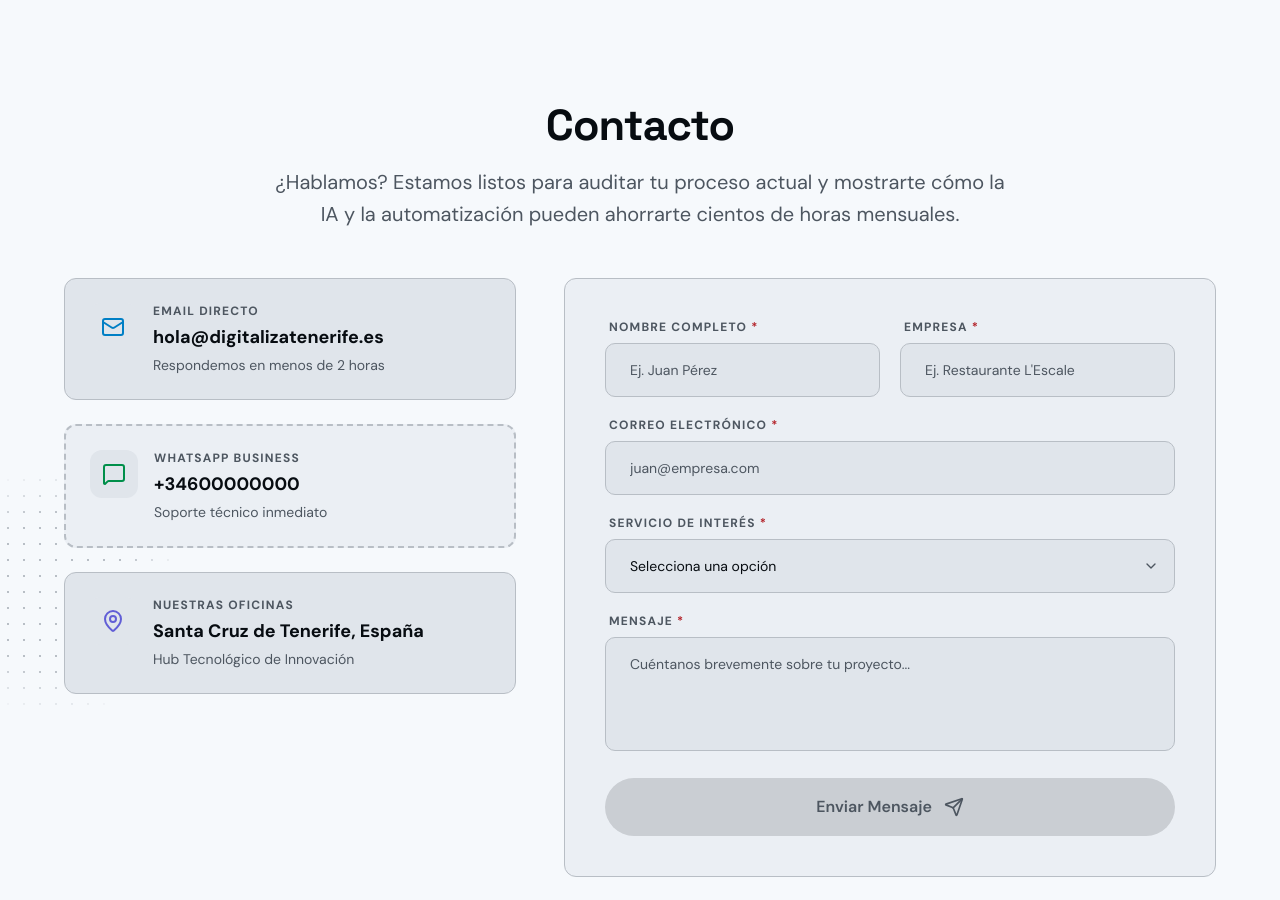
Test case: Contact › submit button becomes enabled once required fields are filled and settings finish loading, className stays unchanged
The width and height of the screenshot is (1280, 900).
Expected: the button "Enviar Mensaje" is disabled, [605, 778, 1175, 836]
Type "Ana García" into the field labelled "Nombre Completo *" at point(742, 370), box [605, 343, 880, 397]
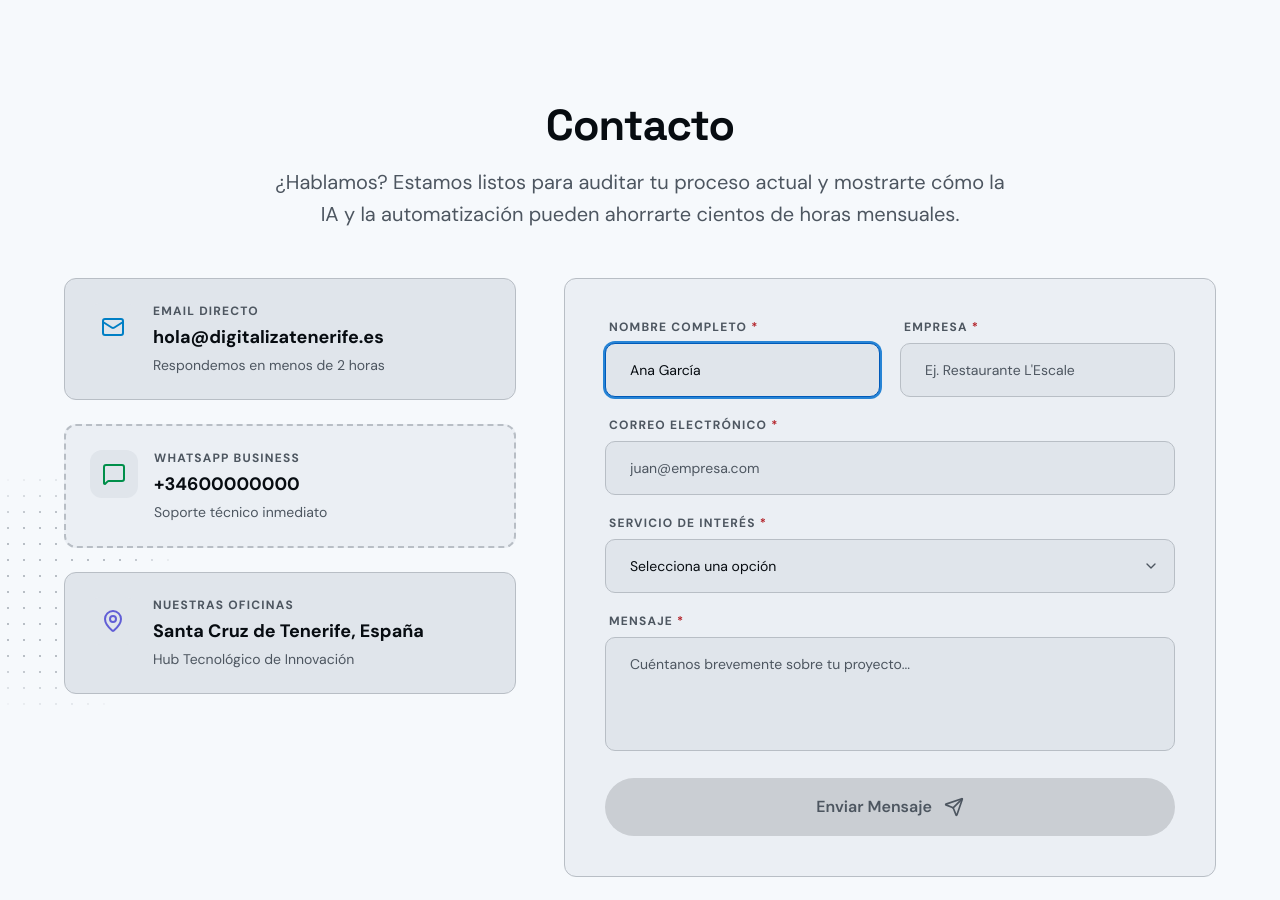
Type "Acme SL" into the field labelled "Empresa *" at point(1038, 370), box [900, 343, 1175, 397]
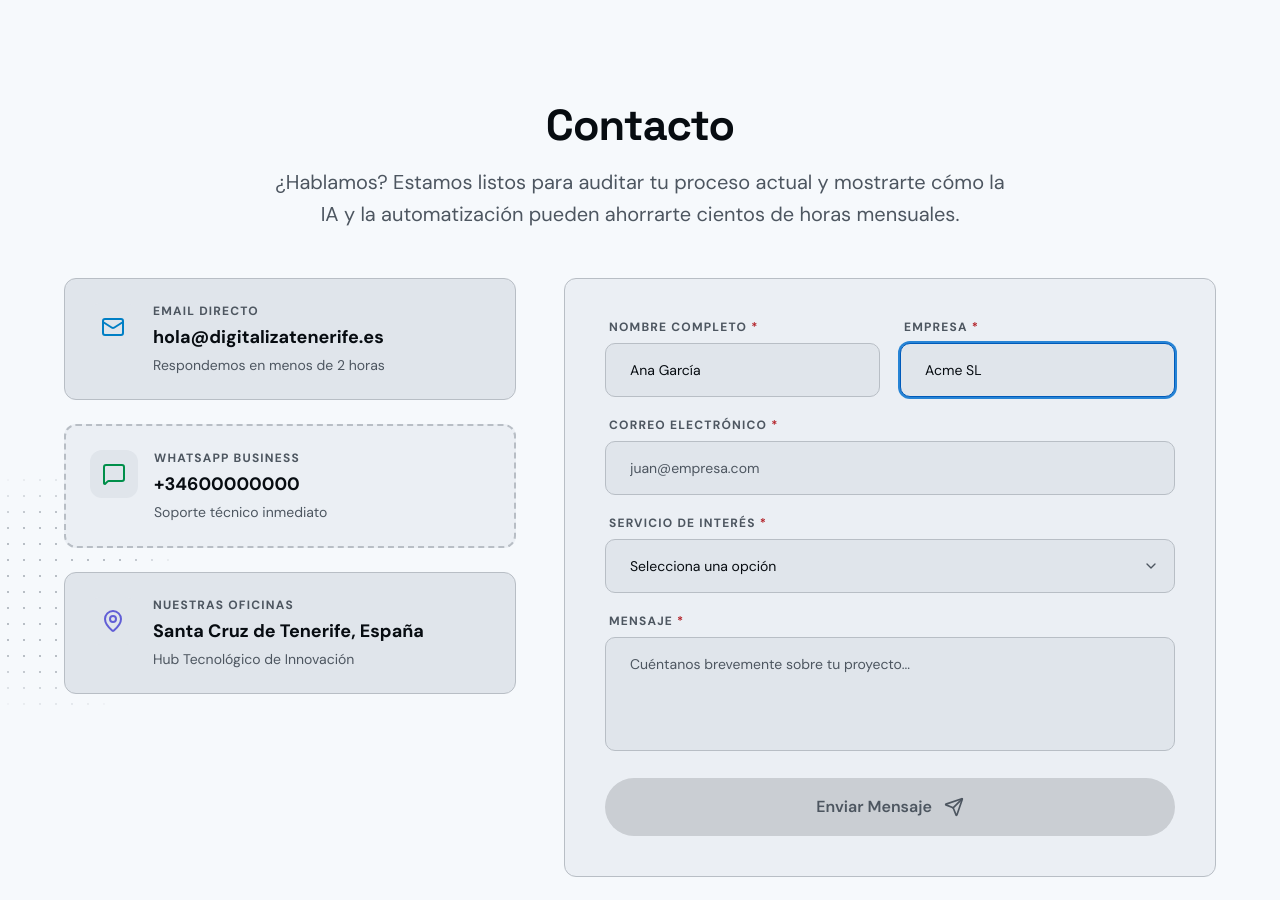
Type "ana@acme.es" into the field labelled "Correo Electrónico *" at point(890, 468), box [605, 441, 1175, 495]
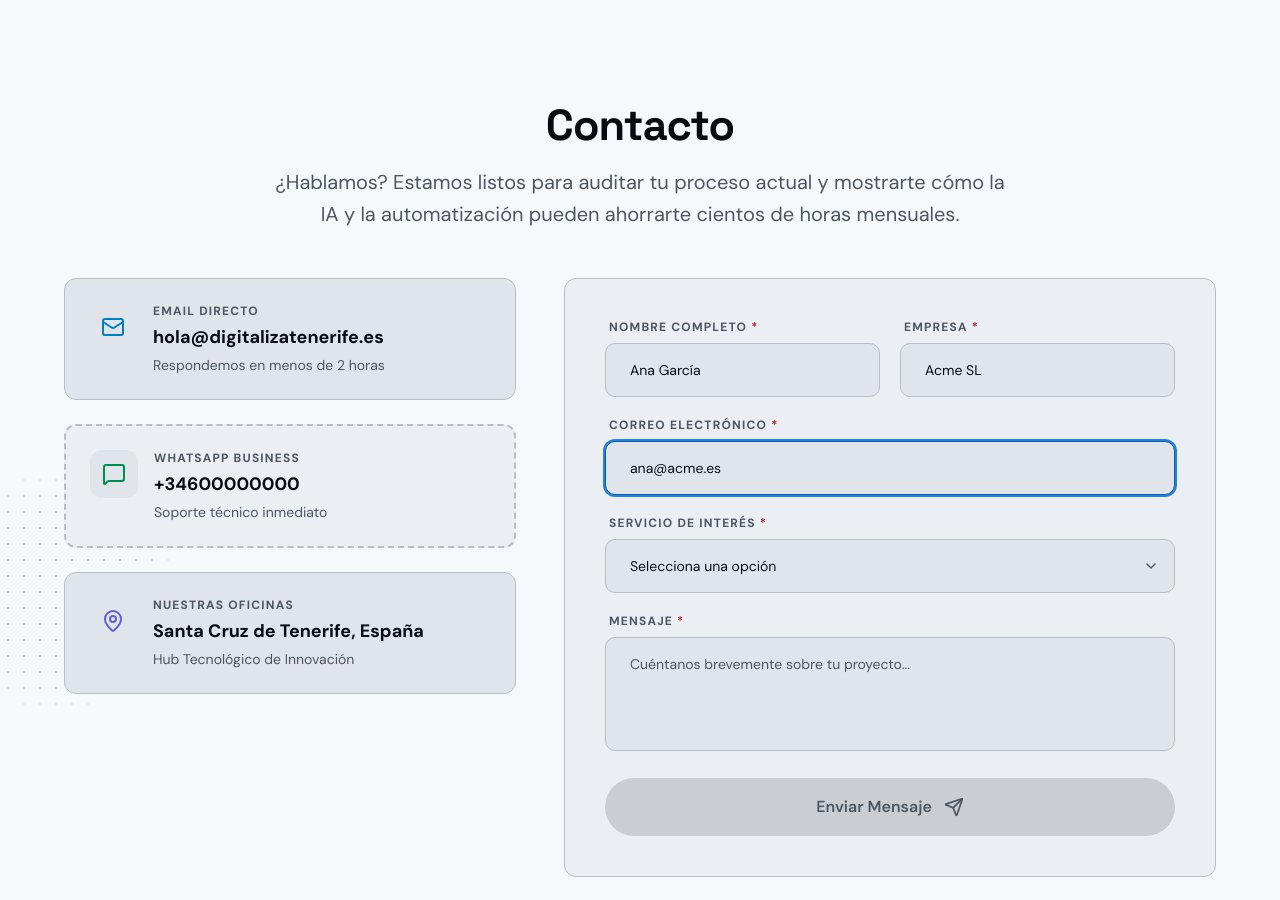
Select "Carta Digital Premium" in the dropdown labelled "Servicio de Interés *" at point(890, 566), box [605, 539, 1175, 593]
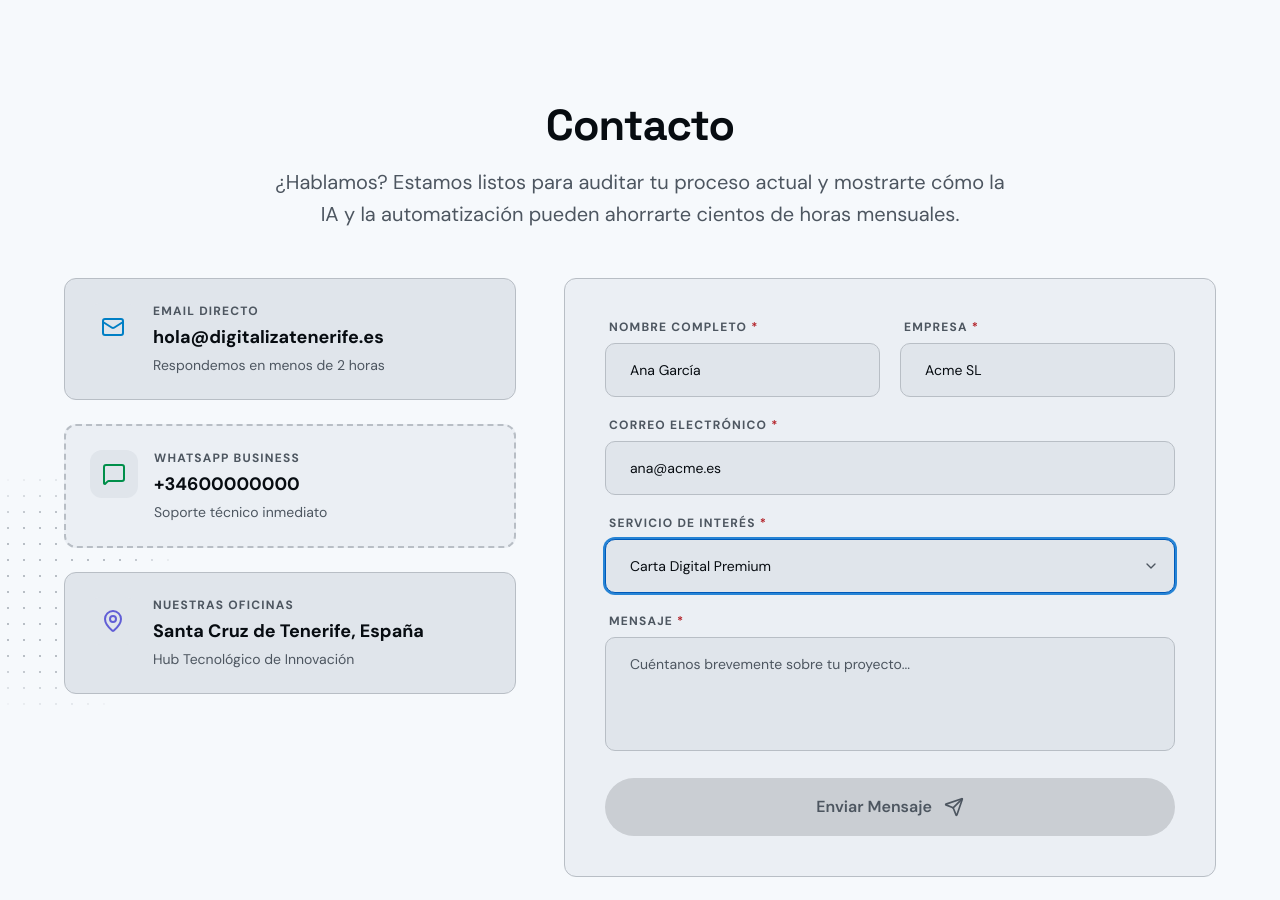
Type "Quiero más info" into the text box labelled "Mensaje *" at point(890, 694), box [605, 637, 1175, 751]
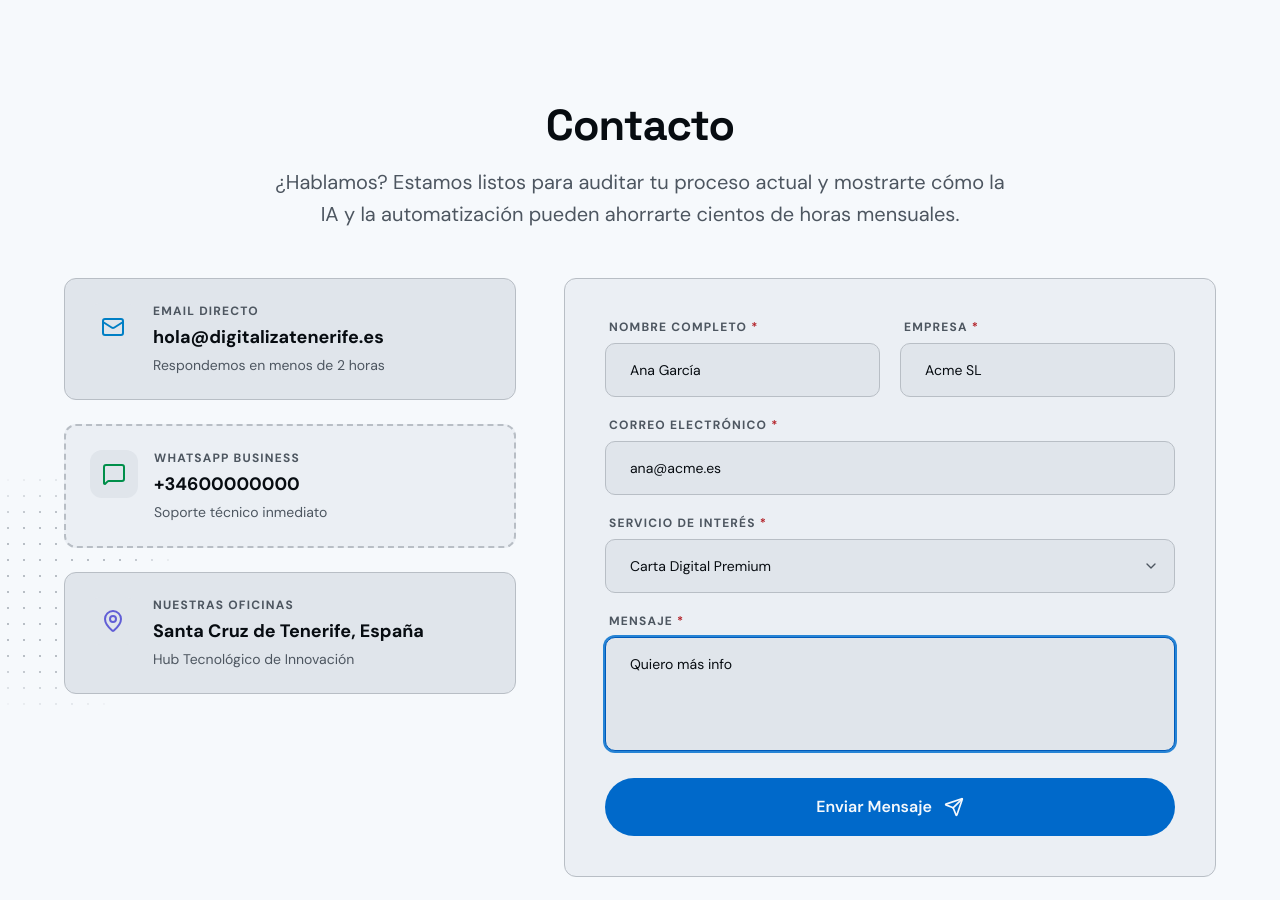
Expected: the button "Enviar Mensaje" is enabled, [605, 778, 1175, 836]
